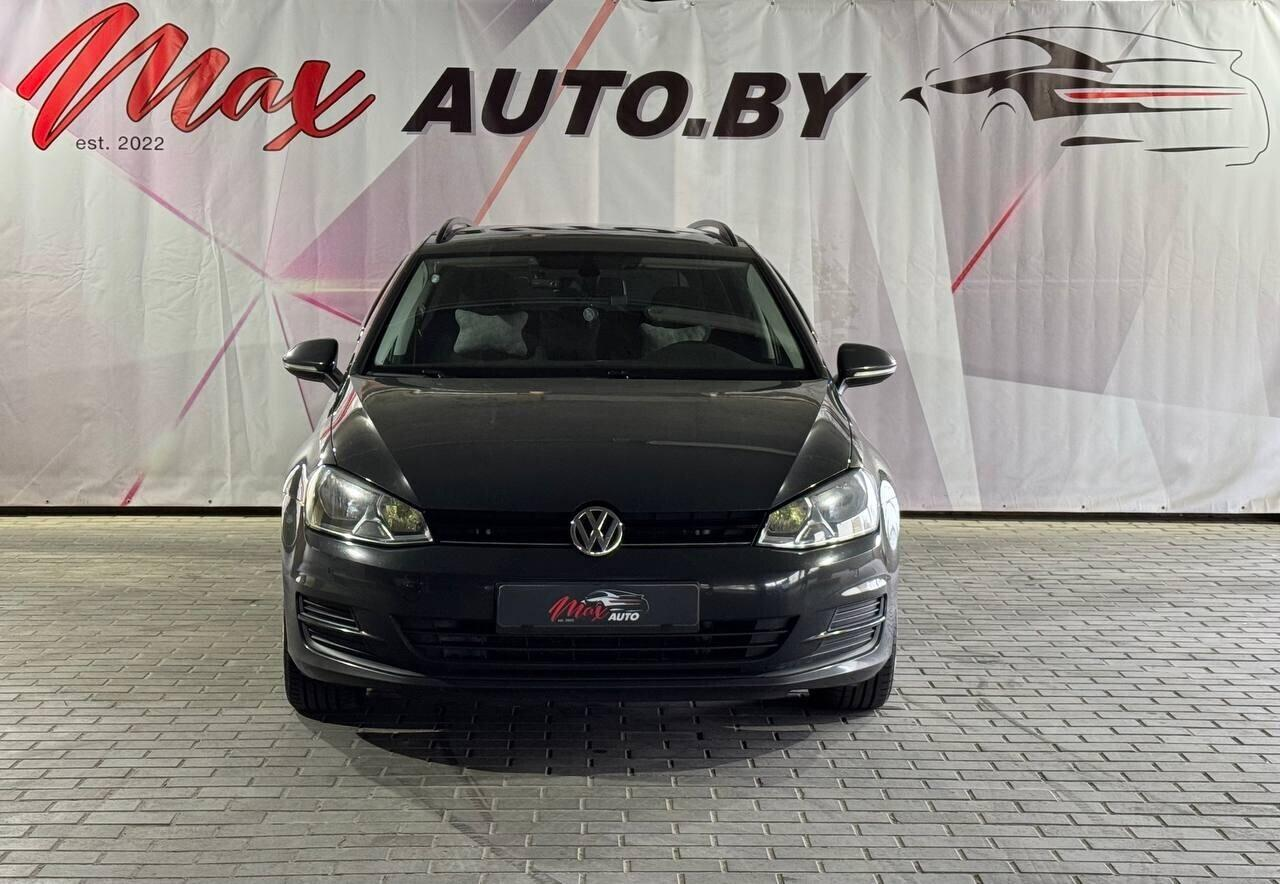Golf_2012-2017: (275, 219, 917, 739)
